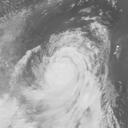cyclone: (29, 46, 98, 109)
